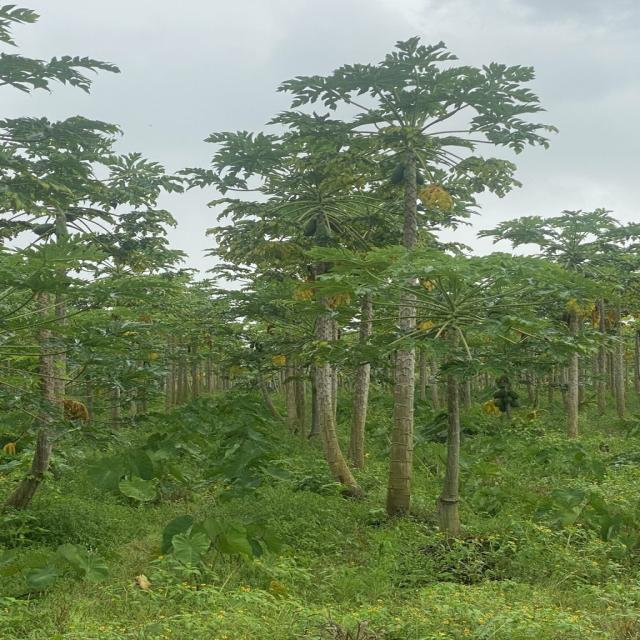Papaya-Tree: (209, 64, 630, 509)
